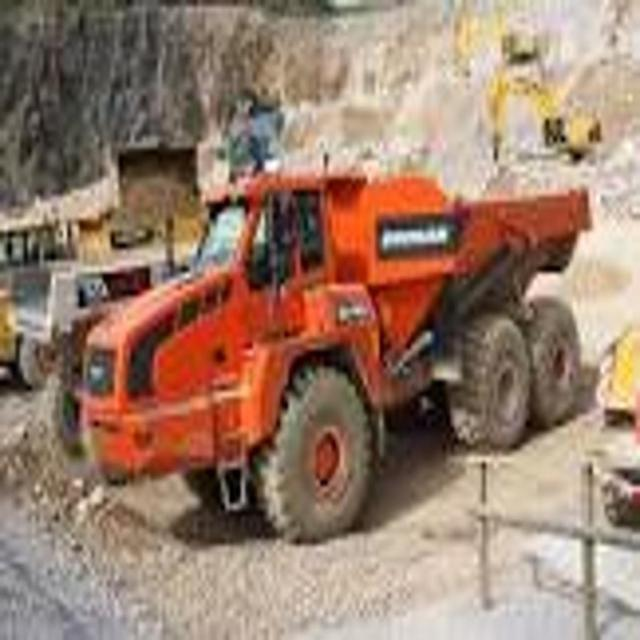dump_truck: (79, 135, 588, 538)
